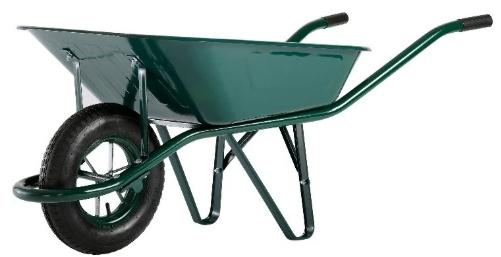BROUETTE: (10, 9, 501, 257)
